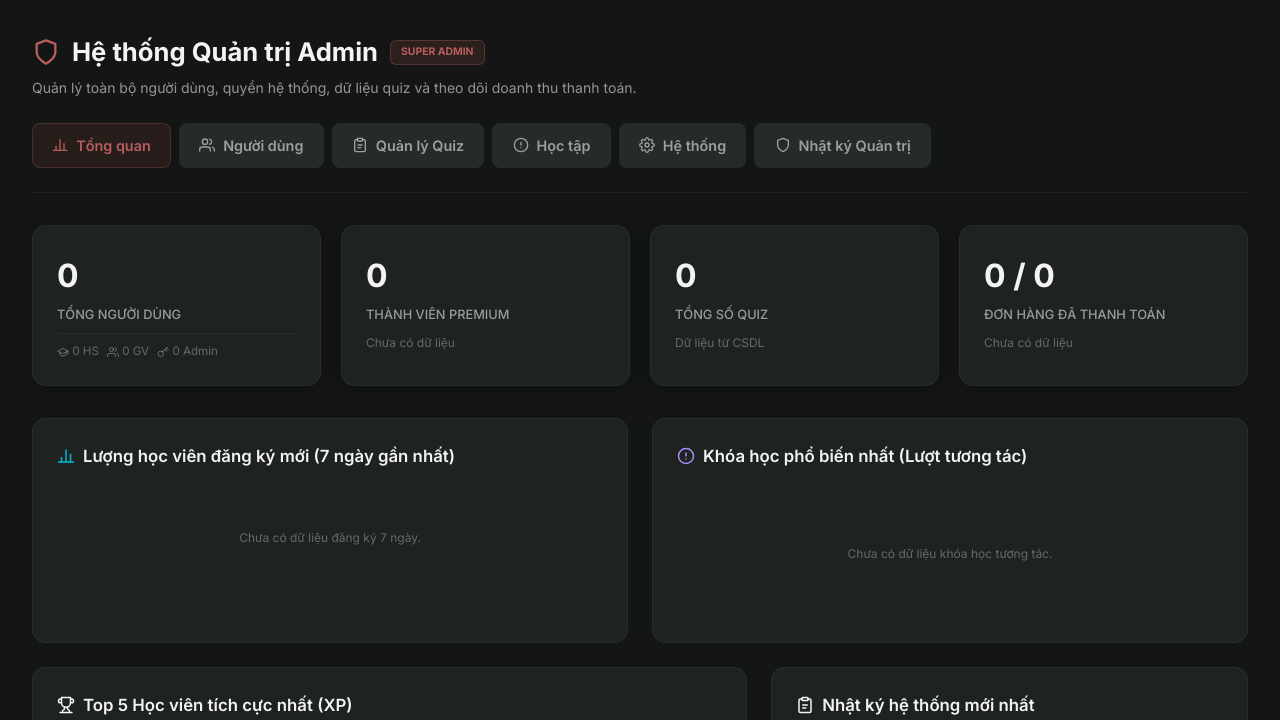
AdminPanelView — P0 Tests › Tab Navigation › switches to "quizzes" tab when clicked
Click the tab with class "tab-btn" showing "Quản lý Quiz" at (408, 145), box x1=332 y1=123 x2=484 y2=168
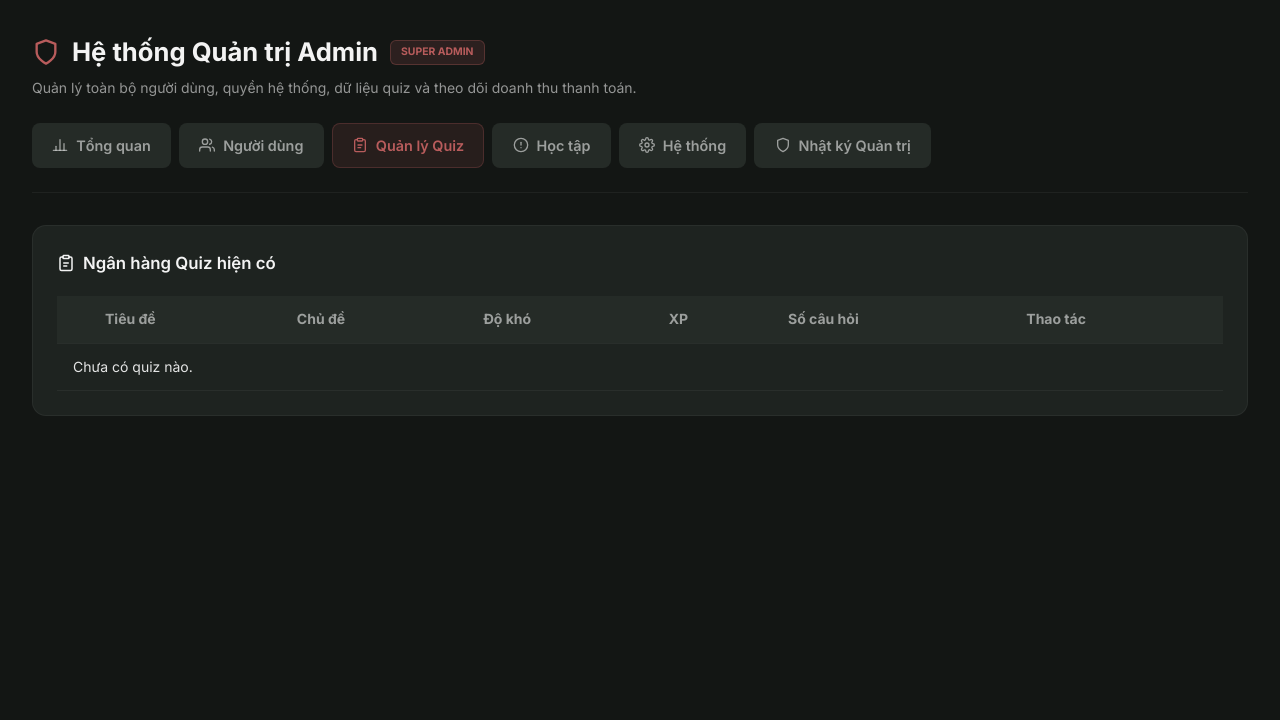
Check: the text "Ngân hàng Quiz hiện có" is shown, box x1=57 y1=253 x2=276 y2=273
